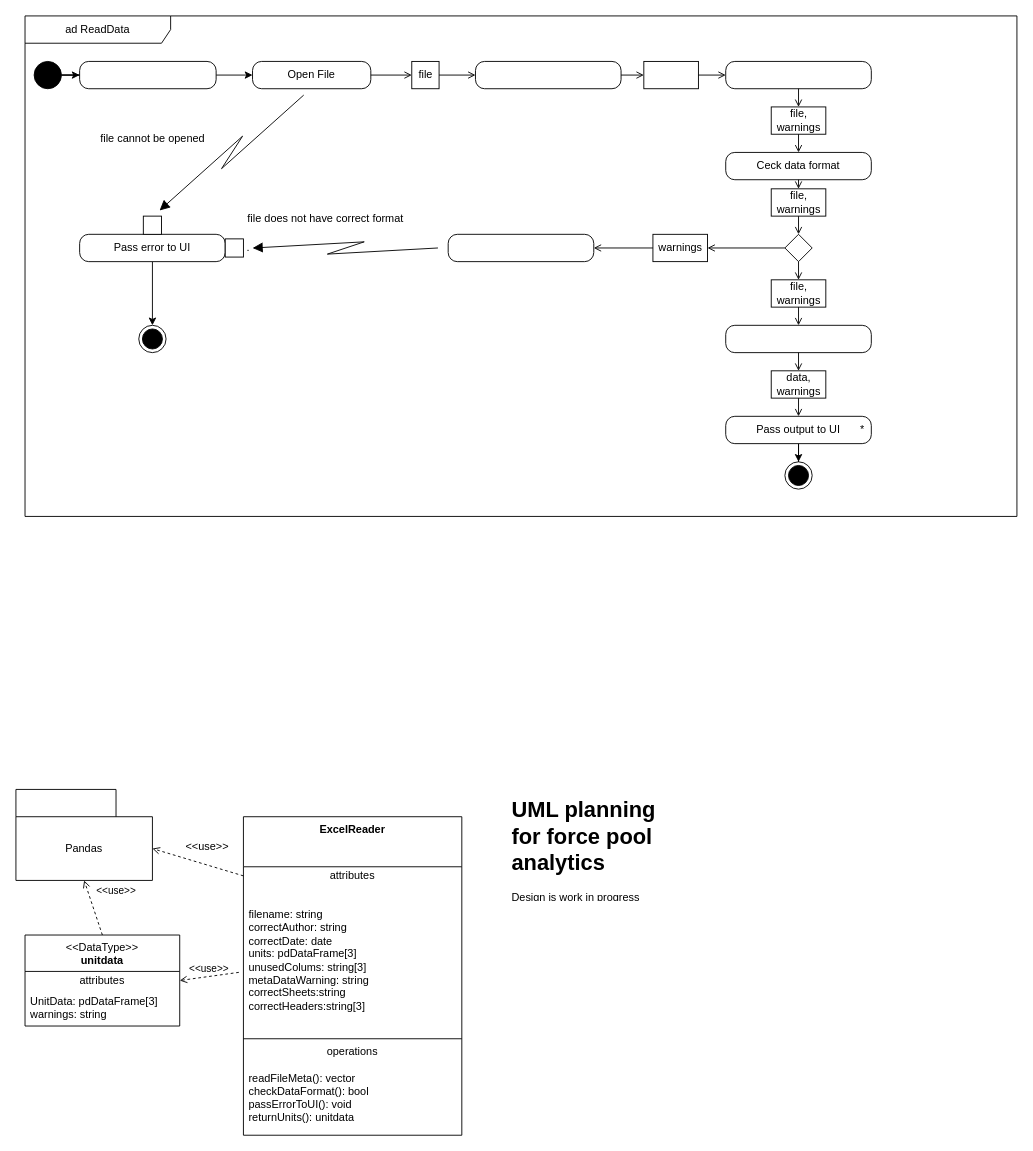
Image size: 1033x1151. Some labels were removed from this diagram. Here are the shapes that lost their labels. From the top down, the centre of each, then its label:
At point (147, 75): "Receive File URI".
At point (548, 75): "Read file metadata".
At point (670, 75): "file, metadata".
At point (798, 75): "Check metadata".
At point (520, 247): "Create Error".
At point (798, 338): "Read unit data".
At point (83, 834): "Package".
